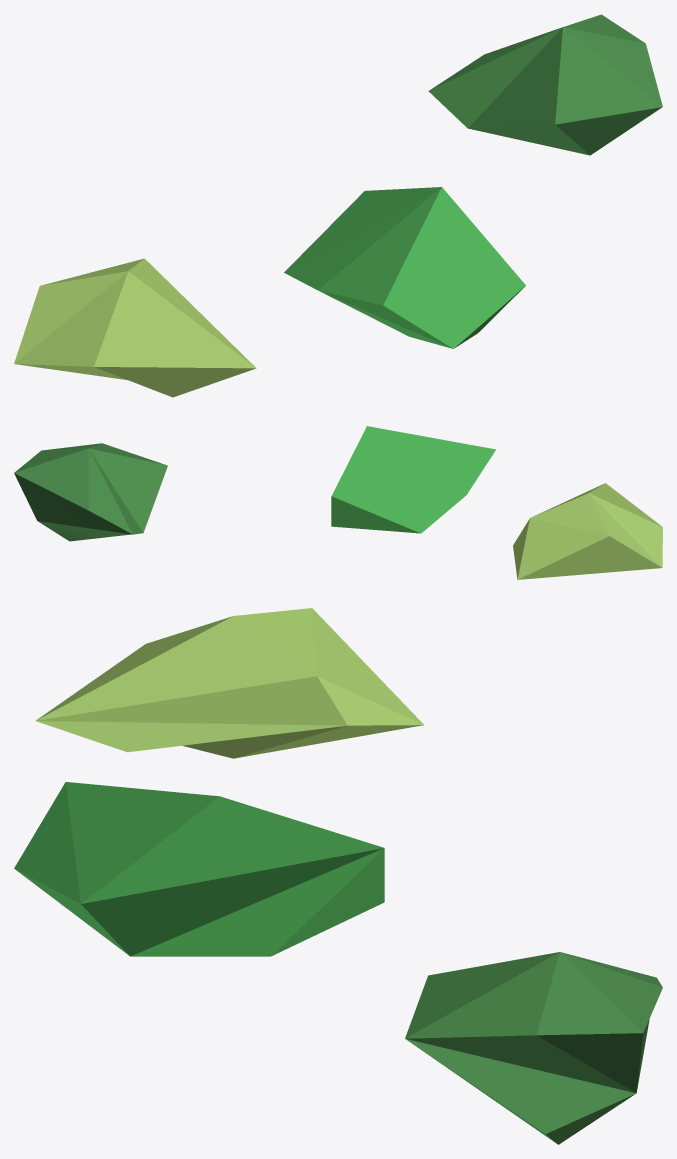
Rendered from weeds.fbx.
The picture shows the model from 3 angles, top to bottom: view 1: azimuth 30°, elevation 25°; view 2: azimuth 150°, elevation 25°; view 3: azimuth 270°, elevation 25°; orthographic projection. The views are drawn at different scales.
Visible parts, largest first — view 1: pSphere2, pSphere3, pSphere1; view 2: pSphere2, pSphere3, pSphere1; view 3: pSphere2, pSphere1, pSphere3.
Boxes of the visible parts, box(x1,y1,x2,y2) form: pSphere2: box(284, 187, 525, 348); pSphere3: box(428, 14, 662, 155); pSphere1: box(14, 258, 256, 397); pSphere2: box(331, 426, 495, 533); pSphere3: box(14, 443, 167, 541); pSphere1: box(513, 483, 662, 579); pSphere2: box(14, 782, 384, 956); pSphere1: box(35, 608, 423, 758); pSphere3: box(405, 952, 662, 1144).
Bounding box in the file's own units: 14.21 × 2.53 × 8.24.
1 material, 1 textured.
